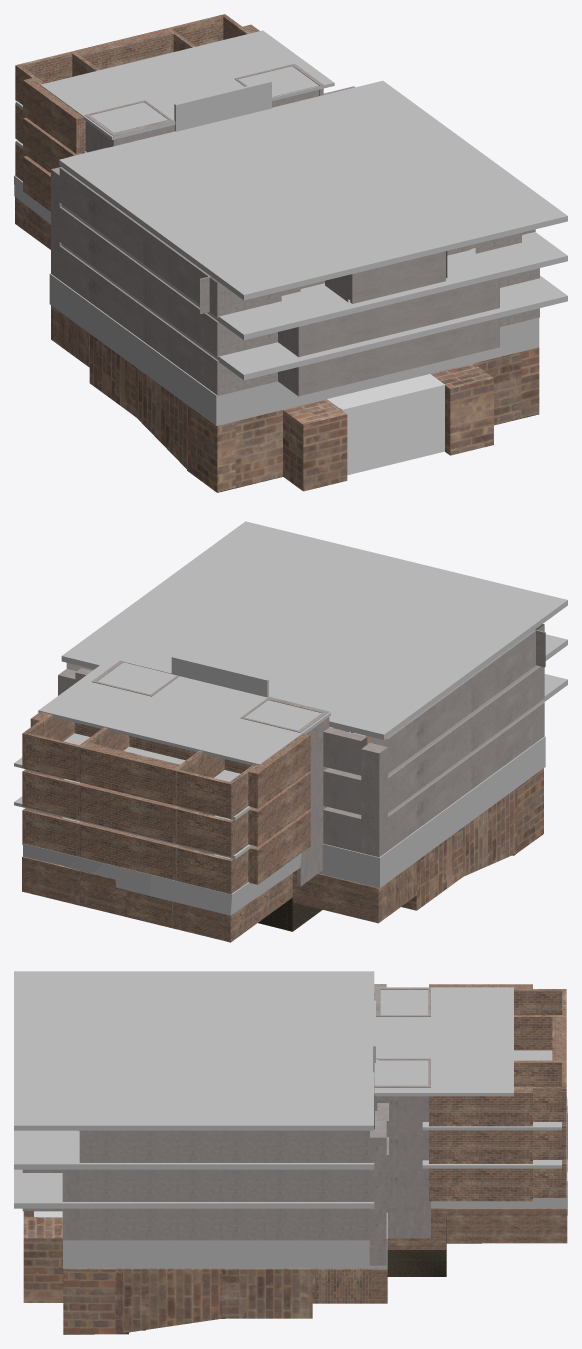
File: EdificioMultiple2.0.1.fbx
3 views of the same model, one above another, from view 1: azimuth 30°, elevation 25°; view 2: azimuth 150°, elevation 25°; view 3: azimuth 270°, elevation 25° (orthographic). The views are drawn at different scales.
Visible parts, largest first — view 1: Cube.151, Cube.040, Cube.152, Plane.006, Cube.105, Cube.039, Cube.099, Cube.094, Cube.005, Cube.112, Cube.069, Cube.047 (+15 smaller); view 2: Cube.151, Cube.152, Plane.006, Cube.036, Cube.040, Cube.110, Cube.112, Cube.094, Cube.005, Cube.063, Cube.053, Cube.109 (+21 smaller); view 3: Cube.151, Cube.040, Cube.152, Plane.006, Cube.059, Cube.118, Cube.058, Cube.110, Cube.105, Cube.036, Cube.049, Cube.099 (+16 smaller).
Part boxes in pixels (x1=…): Cube.151: x1=59, y1=80, x2=567, y2=300; Cube.040: x1=88, y1=333, x2=539, y2=492; Cube.152: x1=40, y1=30, x2=334, y2=139; Plane.006: x1=14, y1=175, x2=539, y2=425; Cube.105: x1=61, y1=204, x2=567, y2=340; Cube.039: x1=327, y1=374, x2=444, y2=475; Cube.099: x1=61, y1=243, x2=567, y2=380; Cube.094: x1=59, y1=206, x2=209, y2=350; Cube.005: x1=59, y1=245, x2=209, y2=388; Cube.112: x1=59, y1=167, x2=209, y2=304; Cube.069: x1=209, y1=268, x2=539, y2=357; Cube.047: x1=209, y1=308, x2=539, y2=396; Cube.151: x1=61, y1=521, x2=567, y2=739; Cube.152: x1=38, y1=658, x2=330, y2=765; Plane.006: x1=23, y1=736, x2=545, y2=915; Cube.036: x1=22, y1=856, x2=292, y2=942; Cube.040: x1=401, y1=768, x2=543, y2=910; Cube.110: x1=22, y1=714, x2=257, y2=818; Cube.112: x1=369, y1=630, x2=535, y2=773; Cube.094: x1=388, y1=669, x2=535, y2=812; Cube.005: x1=388, y1=708, x2=535, y2=850; Cube.063: x1=22, y1=769, x2=248, y2=856; Cube.053: x1=22, y1=808, x2=248, y2=893; Cube.109: x1=81, y1=742, x2=179, y2=804; Cube.151: x1=14, y1=971, x2=374, y2=1130; Cube.040: x1=23, y1=1211, x2=314, y2=1334; Cube.152: x1=374, y1=987, x2=513, y2=1096; Plane.006: x1=63, y1=1096, x2=567, y2=1268; Cube.059: x1=79, y1=1169, x2=369, y2=1201; Cube.118: x1=79, y1=1130, x2=369, y2=1162; Cube.058: x1=79, y1=1208, x2=369, y2=1240; Cube.110: x1=514, y1=989, x2=566, y2=1122; Cube.105: x1=14, y1=1130, x2=374, y2=1169; Cube.036: x1=446, y1=1167, x2=567, y2=1243; Cube.049: x1=369, y1=1164, x2=430, y2=1265; Cube.099: x1=14, y1=1169, x2=374, y2=1208.
Bounding box in the file's own units: 2213 × 1533 × 3254.
